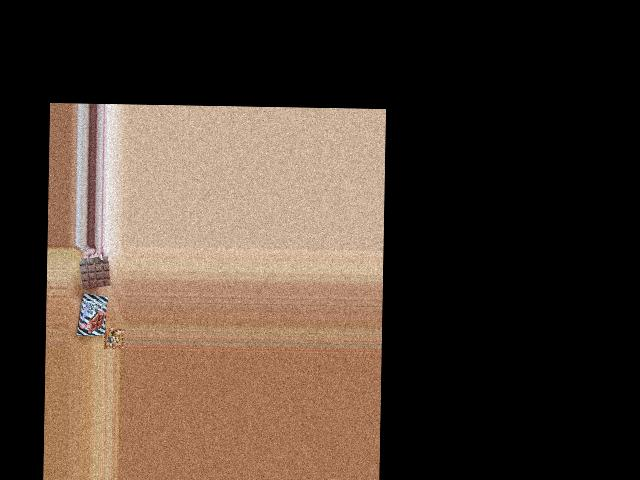chocolate: (77, 292, 106, 338)
